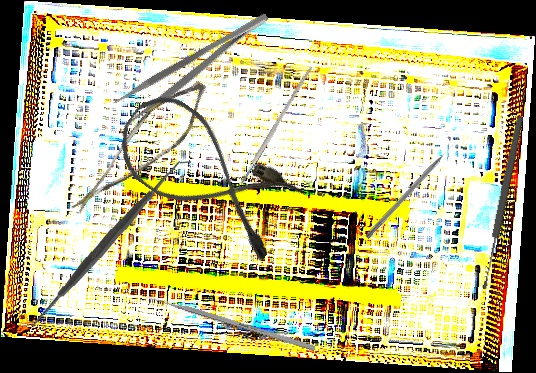Cannula: (103, 82, 311, 266)
Dressing Forceps: (112, 9, 279, 126)
Micro Scissor: (70, 61, 216, 239)
Pusher: (136, 290, 316, 352), (364, 140, 459, 241)
Scalpel Handle: (238, 65, 314, 185)
Spatula Surgical: (22, 155, 191, 332)
Surgical Spoon: (478, 115, 526, 291)
